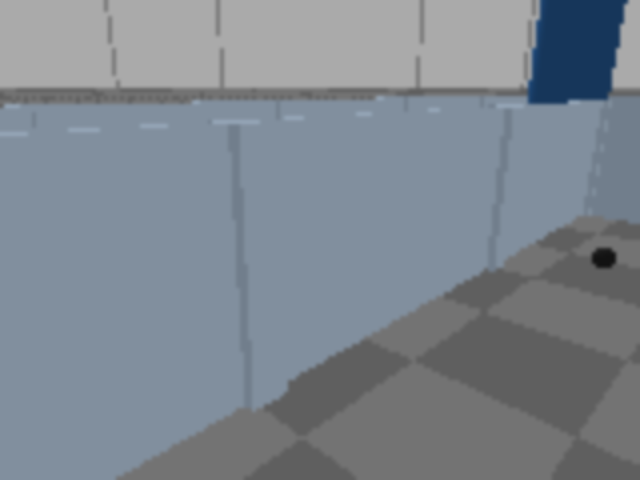puck: (587, 244, 621, 272)
